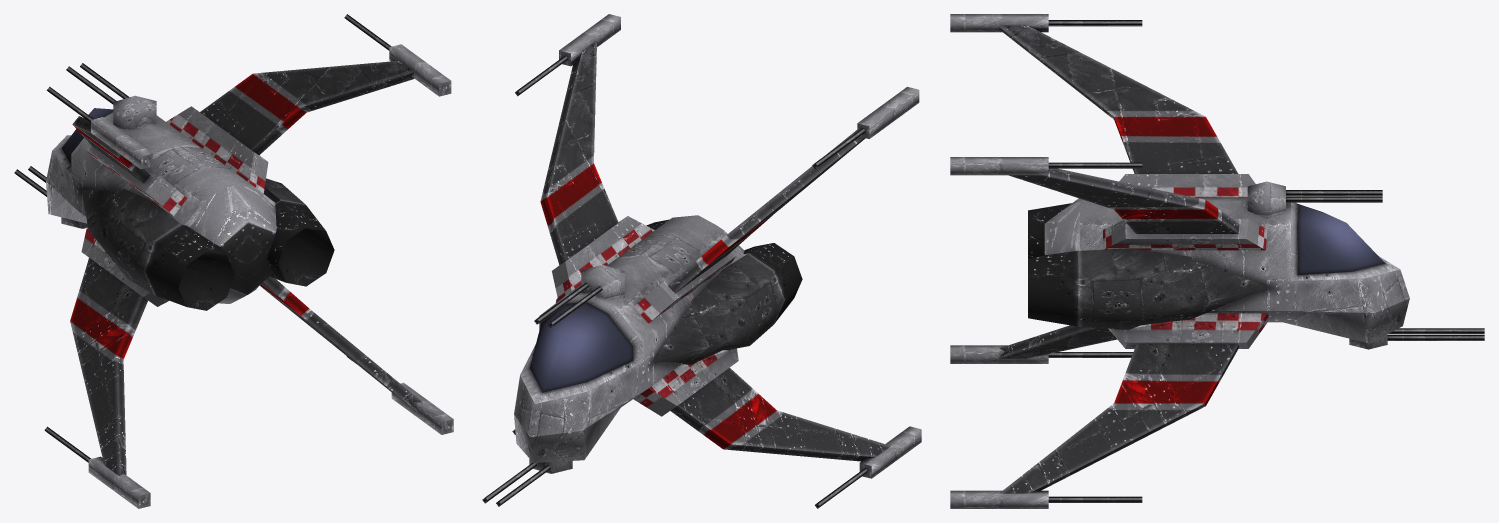
File: wasphunter.FBX
The picture shows the model from 3 angles, left to right: view 1: azimuth 30°, elevation 25°; view 2: azimuth 150°, elevation 25°; view 3: azimuth 270°, elevation 25°; orthographic projection.
Parts seen in each view (by area): view 1: wasphunter; view 2: wasphunter; view 3: wasphunter.
Part boxes in pixels (x1,y1,x2,y2): wasphunter: (14,14,453,508); wasphunter: (482,14,921,508); wasphunter: (950,14,1484,508).
Size of the model in its own units: 29.12 by 31.06 by 43.55.
Materials: 1 (1 with a texture image).
